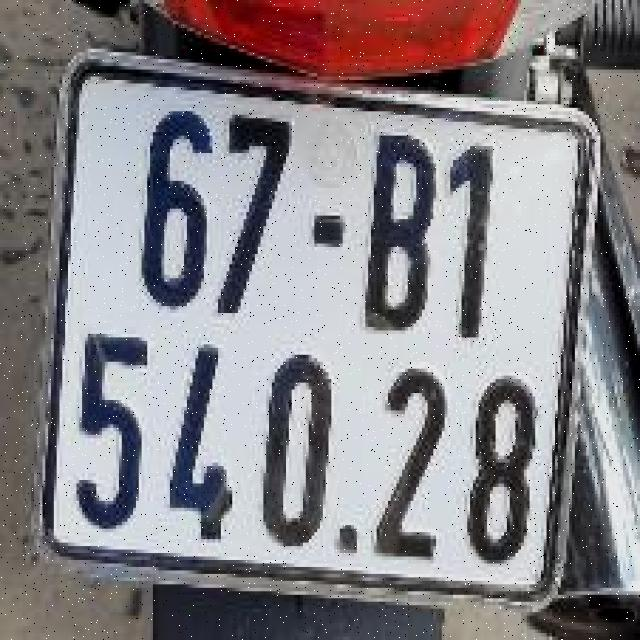0: (250, 342, 332, 554)
1: (445, 141, 507, 342)
2: (371, 355, 450, 570)
4: (163, 332, 236, 541)
5: (72, 324, 152, 539)
6: (136, 101, 209, 313)
7: (216, 108, 304, 323)
8: (458, 360, 546, 583)
B: (364, 124, 440, 339)
